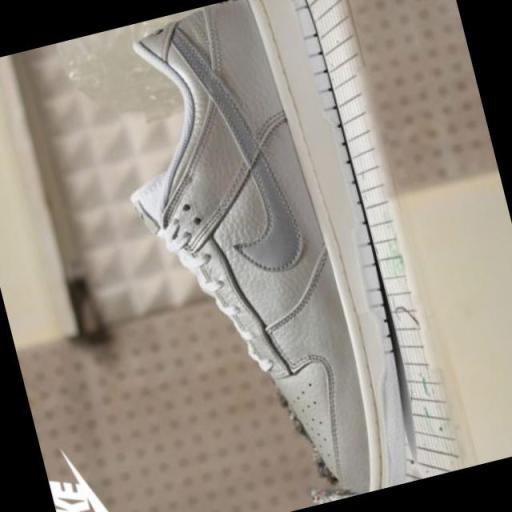Nike: (73, 455, 135, 512), (48, 469, 102, 512)
